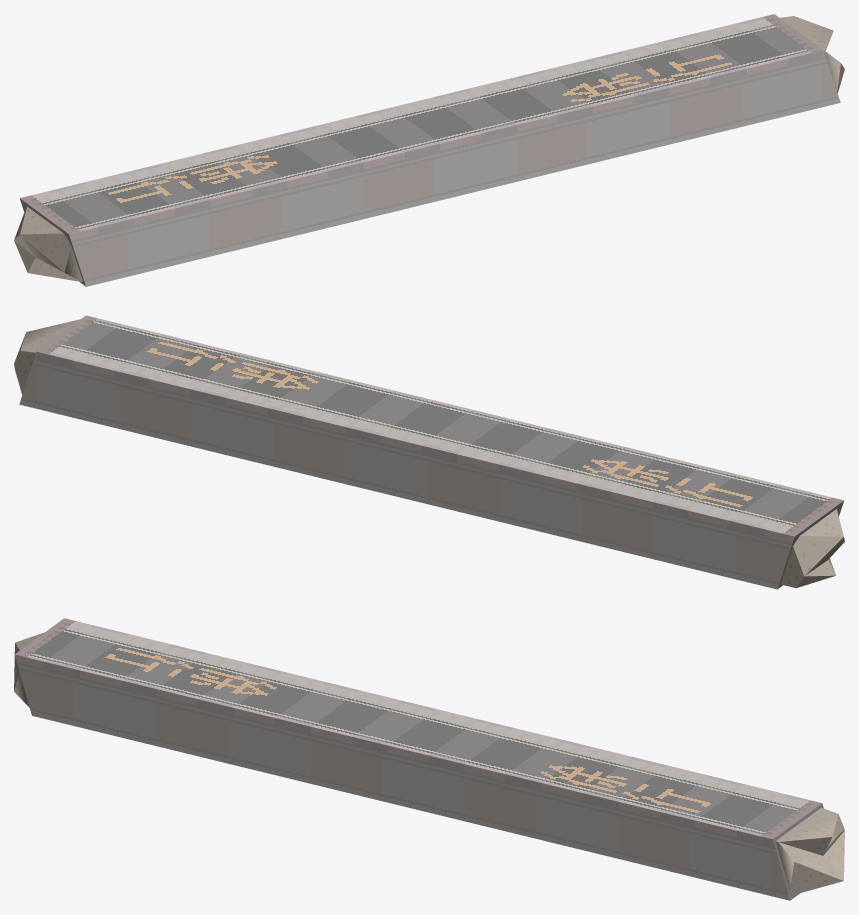
Rendered from 0570_Drawbridge.glb.
The picture shows the model from 3 angles, top to bottom: view 1: azimuth 30°, elevation 25°; view 2: azimuth 150°, elevation 25°; view 3: azimuth 330°, elevation 25°; orthographic projection.
Parts seen in each view (by area): view 1: part_0; view 2: part_0; view 3: part_0.
Boxes of the visible parts, x1,y1,x2,y2 form: part_0: (14, 14, 844, 286); part_0: (14, 315, 844, 589); part_0: (14, 618, 844, 900).
Size of the model in its own units: 28.97 by 1.91 by 3.
1 material, 1 textured.
